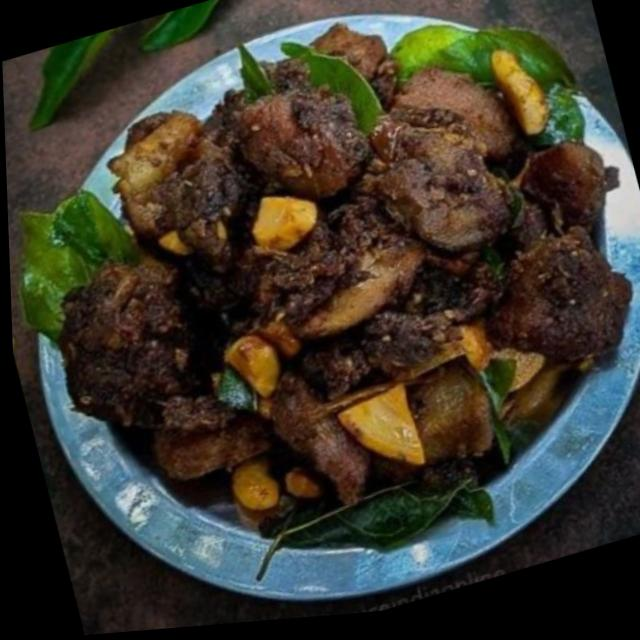CHICKEN FRY: (5, 0, 640, 596)
